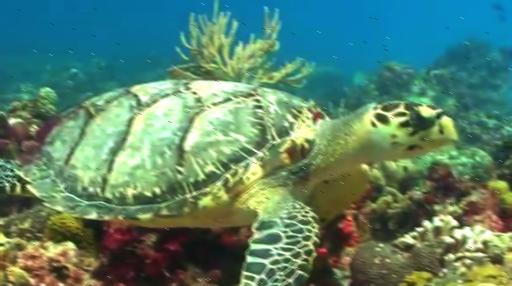Fish: (0, 80, 457, 285)
